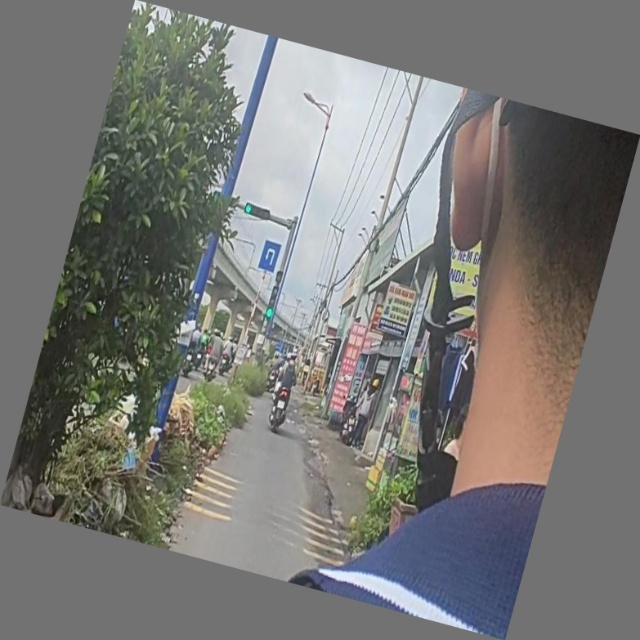I.409: (256, 238, 284, 277)
